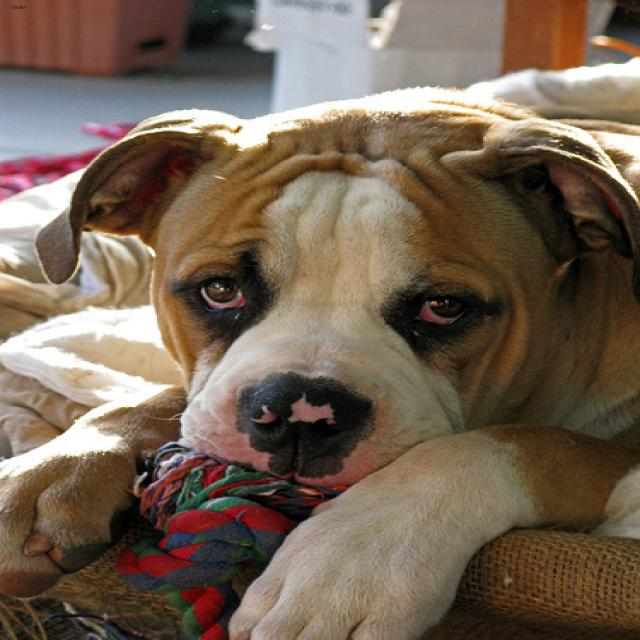dog-american_bulldog: (2, 78, 637, 637)
